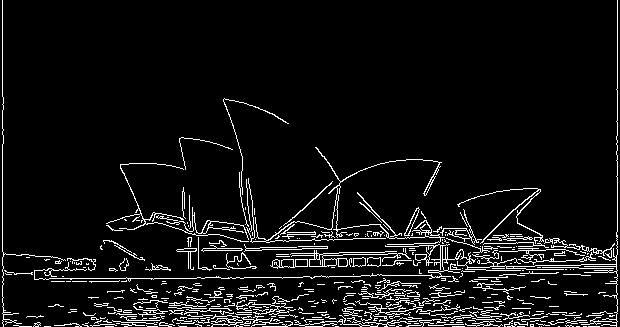opera house: (93, 93, 551, 271)
